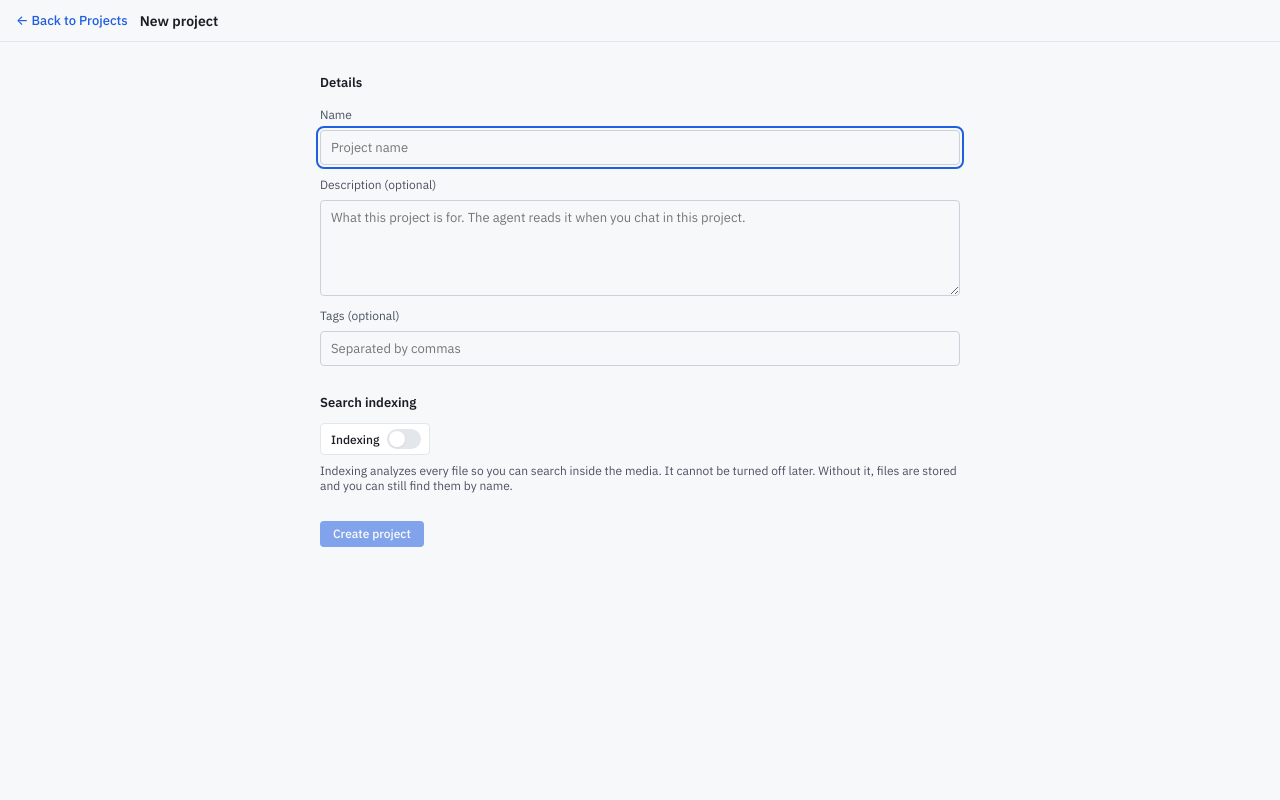
Test: ProjectsSurface create form › keeps the form open with the error inline when create fails
Type "Launch Q3" into the field named "New project name".
click(640, 148); type("Launch Q3")  # box [320, 130, 960, 165]
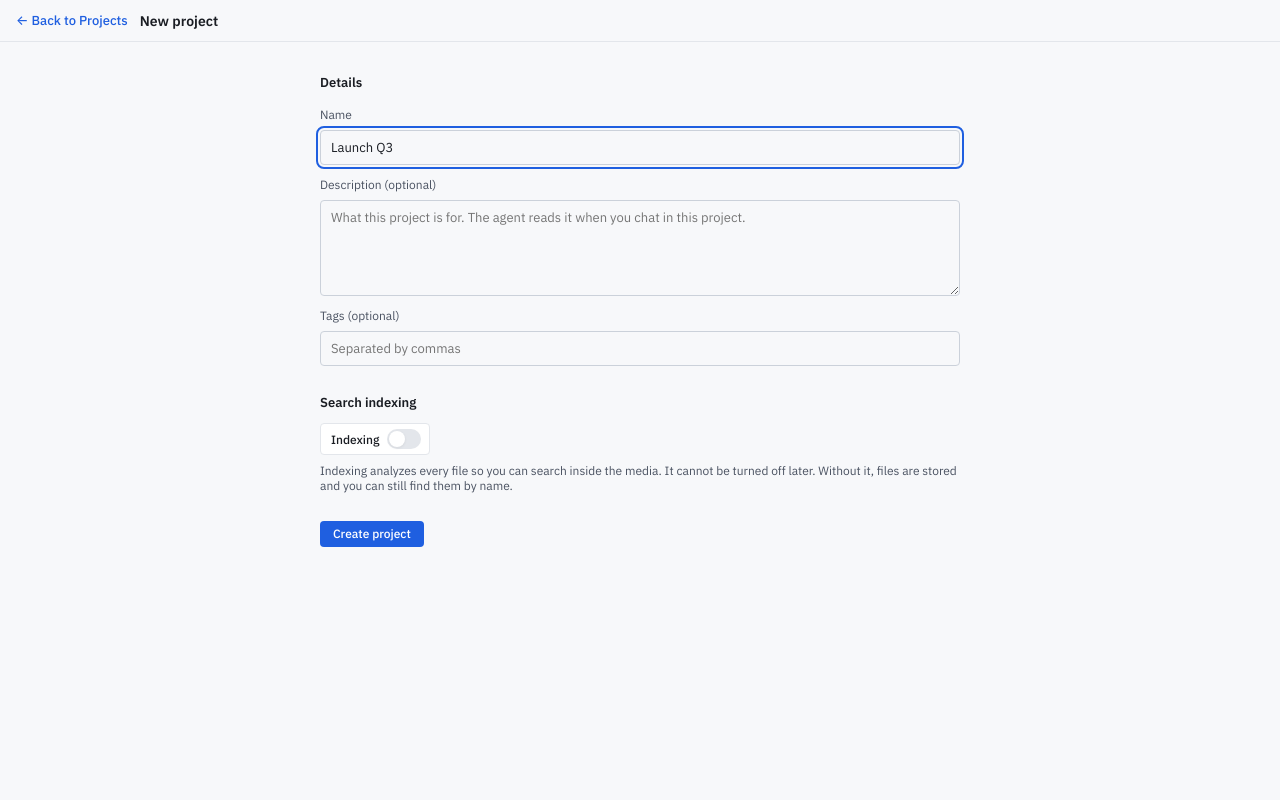
Click the button "Create project".
click(372, 534)  # box [320, 521, 424, 547]
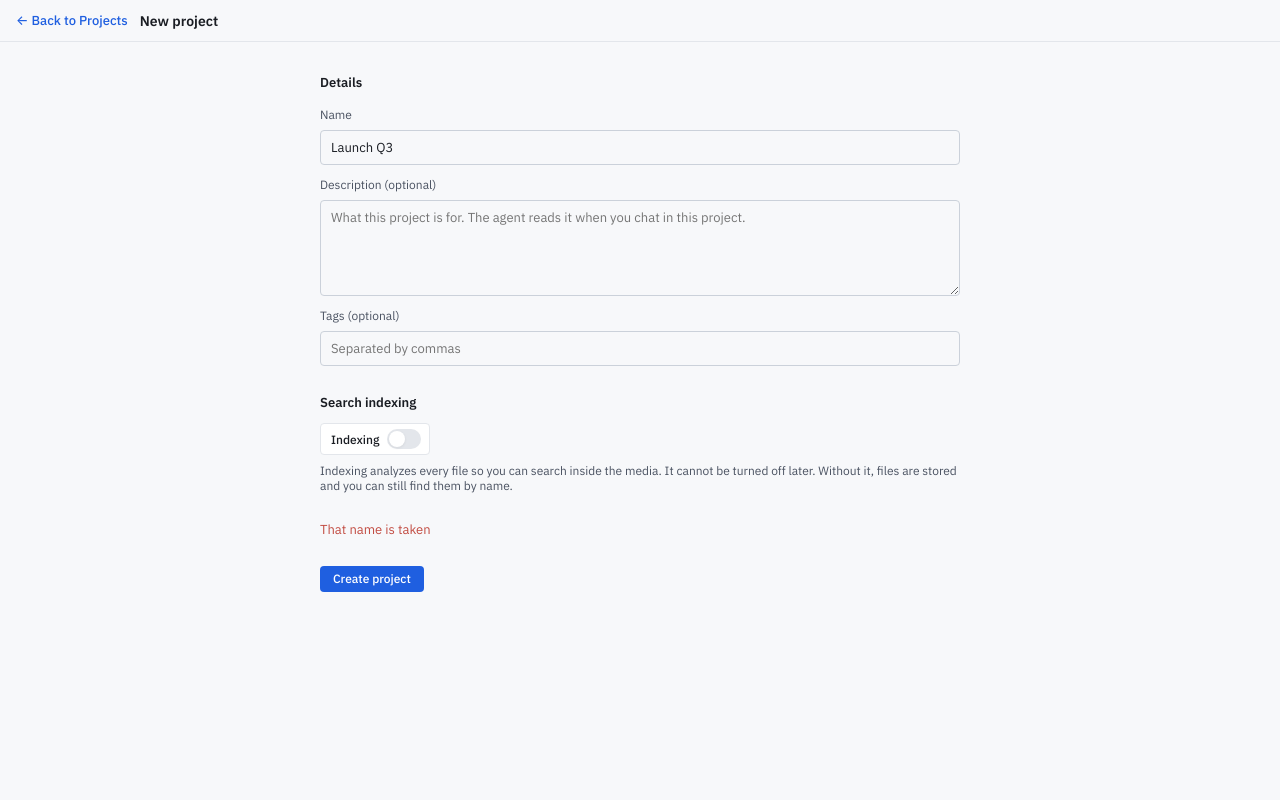
Expected: the form with test id "project-create-form" is shown, [320, 74, 960, 592]
Result: the message reads "That name is taken" at [320, 521, 431, 538]
